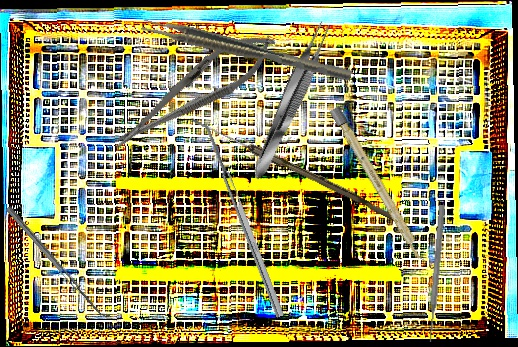Needle Holder: (101, 18, 286, 164)
Pusher: (425, 204, 447, 343)
Scalpel Handle: (328, 105, 429, 266)
Spatula Surgical: (191, 113, 285, 321), (5, 202, 112, 322)
Surgical Spoon: (196, 119, 398, 221)
Tissue Forceps: (140, 14, 353, 88), (245, 17, 337, 184)
